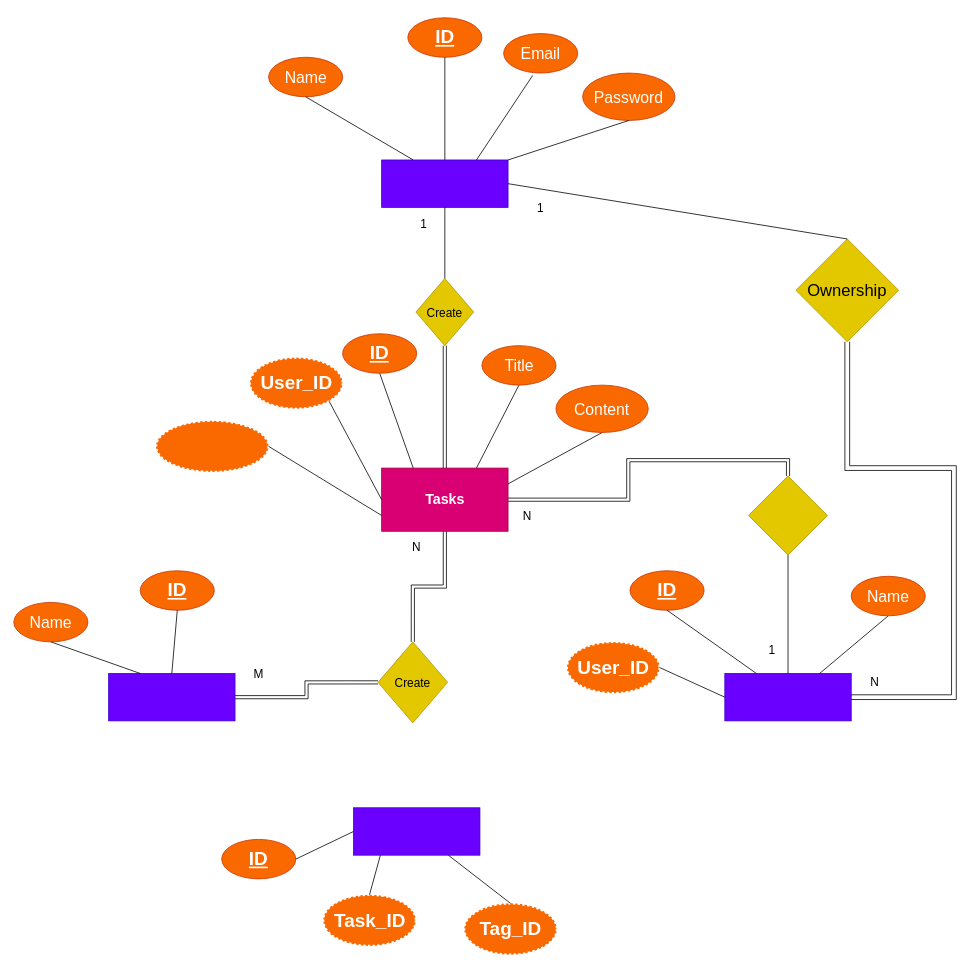
Some shapes in this 970 by 969 pixel diagram are drawn without their labels. The shapes that lost their labels are listed below. From the top down, each one's centre as x and y in pixels, then its label:
At [444,183]: "Users".
At [211,446]: "Folder_ID".
At [788,515]: "Insert".
At [171,697]: "Tags".
At [787,697]: "Folders".
At [416,831]: "TaskTags".
